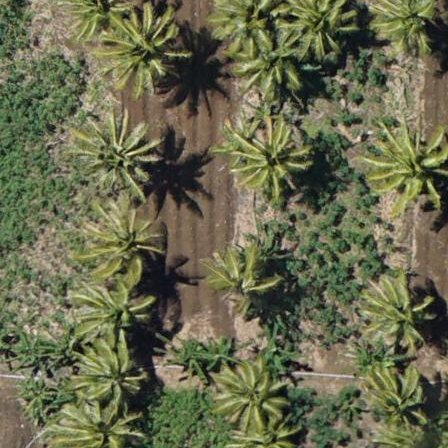palm_tree: (103, 4, 187, 93), (72, 105, 155, 193), (352, 358, 435, 446), (80, 201, 160, 287), (366, 118, 446, 203), (358, 273, 436, 356), (276, 1, 357, 68), (237, 123, 307, 198), (219, 352, 289, 426), (79, 333, 147, 406), (204, 246, 272, 319), (75, 279, 157, 337), (360, 1, 440, 57), (205, 1, 282, 59), (62, 393, 143, 448), (229, 412, 300, 448)
